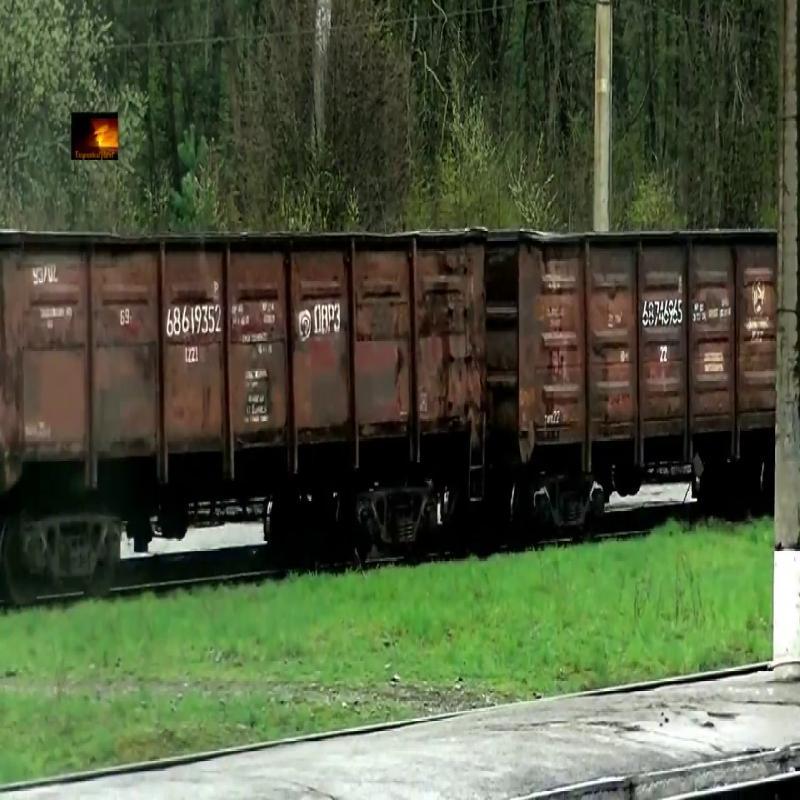train: (1, 226, 490, 490), (491, 230, 777, 469)
